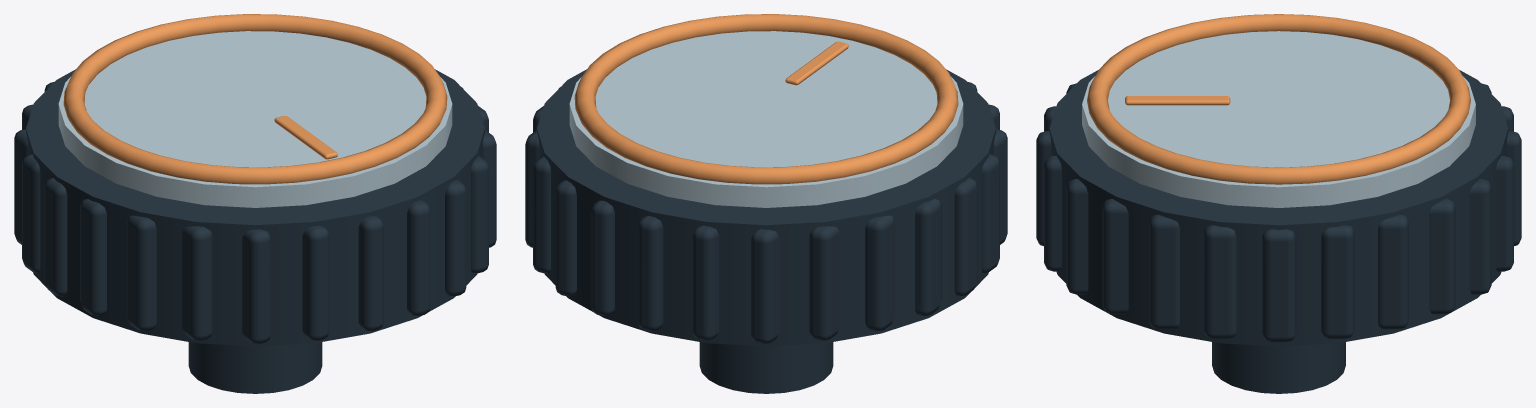
The model's file is knob.glb.
3 views of the same model, side by side, from view 1: azimuth 30°, elevation 25°; view 2: azimuth 150°, elevation 25°; view 3: azimuth 270°, elevation 25° (orthographic).
Visible parts, largest first — view 1: knob; view 2: knob; view 3: knob.
Boxes of the visible parts, left/top/right/bottom form: knob: left=14, top=14, right=496, bottom=393; knob: left=525, top=14, right=1007, bottom=393; knob: left=1036, top=14, right=1521, bottom=393.
Size of the model in its own units: 2.49 by 1.58 by 2.54.
